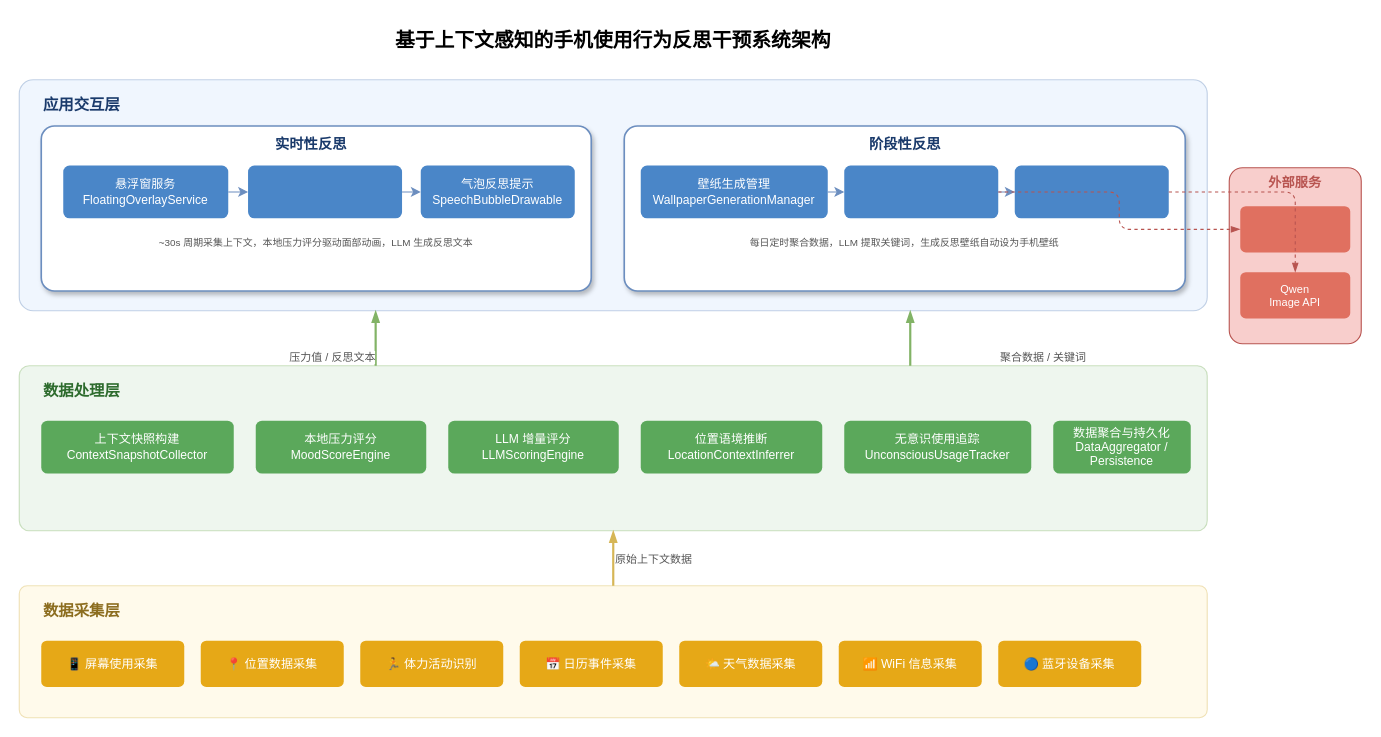
The diagram is 1381 pixels wide and 737 high, and some of its shapes have lost their labels. The centre of each missing label's shape, as x and y in pixels:
DeepSeek Chat API: pixel 1295 229
LLM 关键词提取 DeepSeek API: pixel 921 191
情绪面部动画 MoodFaceView: pixel 325 191
文生图 Qwen Image API: pixel 1091 191
